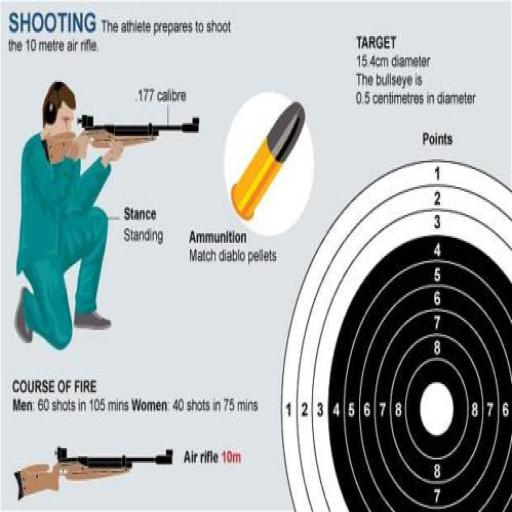shooting: (12, 79, 125, 353)
